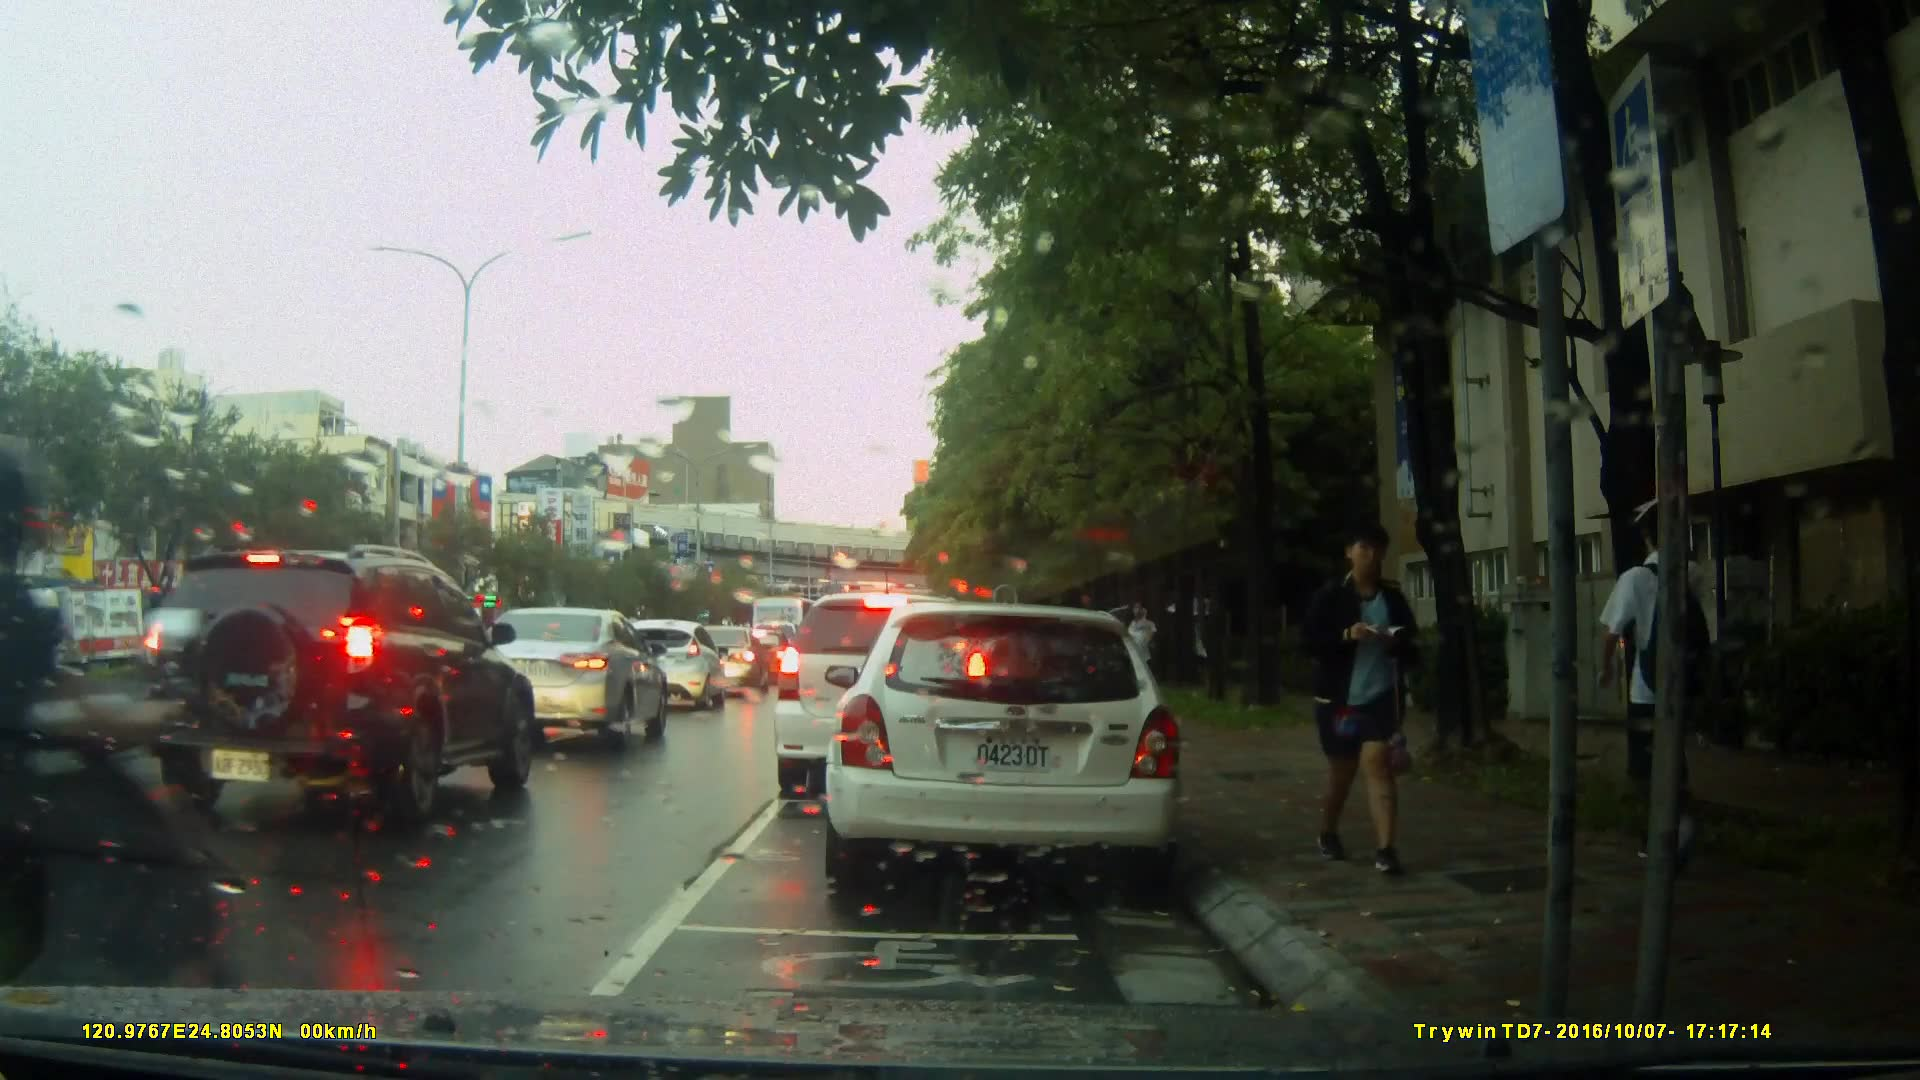pedestrian: (1589, 464, 1738, 884), (1284, 514, 1441, 881), (1118, 588, 1164, 730)
rider: (1, 428, 262, 1065)
vehicle: (129, 542, 537, 833), (815, 593, 1199, 896), (770, 590, 995, 802), (467, 607, 678, 751), (1, 584, 150, 686), (605, 617, 730, 713), (687, 625, 764, 691)
